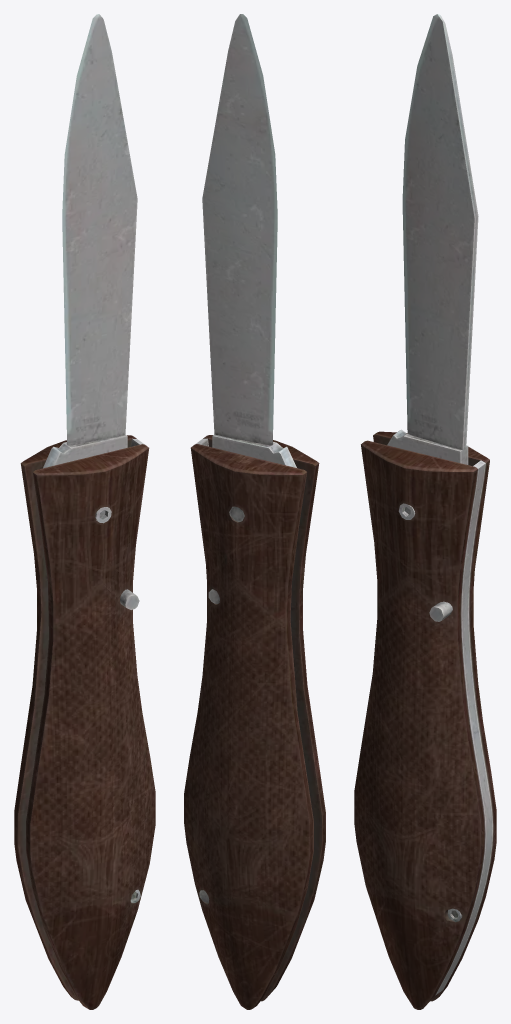
Rendered from fish_knife.glb.
The picture shows the model from 3 angles, left to right: view 1: azimuth 30°, elevation 25°; view 2: azimuth 150°, elevation 25°; view 3: azimuth 330°, elevation 25°; orthographic projection.
Parts seen in each view (by area): view 1: fish_knife_handle; view 2: fish_knife_handle; view 3: fish_knife_handle.
Part boxes in pixels (<box>): fish_knife_handle: <box>14,14,155,1009</box>; fish_knife_handle: <box>184,14,325,1009</box>; fish_knife_handle: <box>354,14,496,1009</box>.
Size of the model in its own units: 0.0289 by 0.2157 by 0.0161.
1 material, 1 textured.
